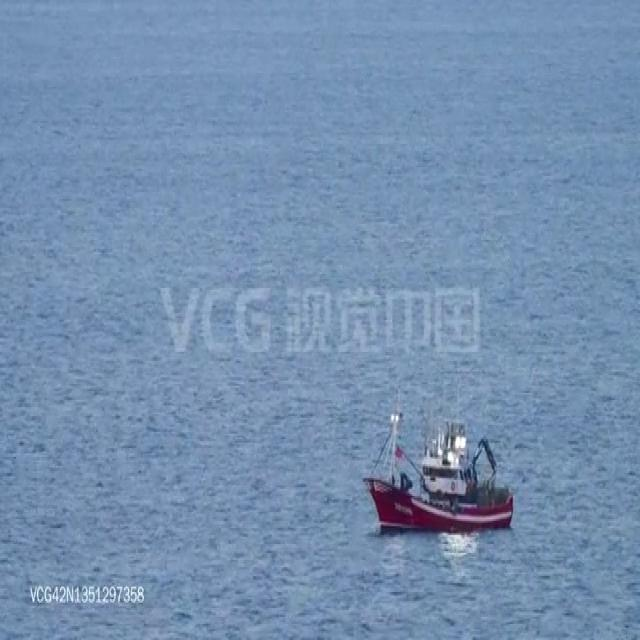fishing boat: (358, 404, 517, 543)
